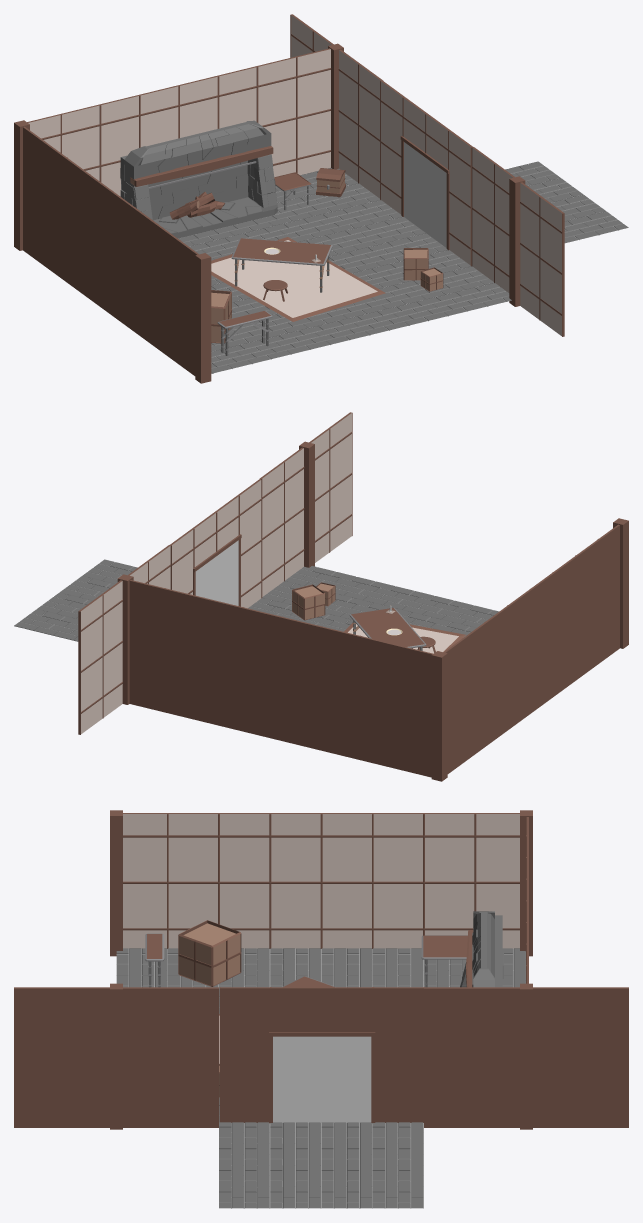
Rendered from RoomPieces.fbx.
3 renders of one model, top to bottom at view 1: azimuth 30°, elevation 25°; view 2: azimuth 150°, elevation 25°; view 3: azimuth 270°, elevation 25°, orthographic. The views are drawn at different scales.
Visible parts, largest first — view 1: Cube.055, Cube.009, Cube.006, Cube.007, Cube.016, Cube.001, Cube.073, Cube.008, Cube.014, Cube.061, Cube.017, Cube.003 (+13 smaller); view 2: Cube.009, Cube.008, Cube.007, Cube.006, Cube.016, Cube.017, Cube.014, Cube.001, Cube.019, Cube.005, Cube.015, Cube.026 (+6 smaller); view 3: Cube.016, Cube.017, Cube.007, Cube.006, Cube.014, Cube.019, Cube.015, Cube.002, Cube.003, Cube.059, Cube.055, Cube.010 (+5 smaller).
Part boxes in pixels (<box>): Cube.055: <box>120,120,277,238</box>; Cube.009: <box>178,48,330,177</box>; Cube.006: <box>23,126,112,314</box>; Cube.007: <box>110,191,198,375</box>; Cube.016: <box>471,147,564,336</box>; Cube.001: <box>326,233,511,337</box>; Cube.073: <box>213,168,425,256</box>; Cube.008: <box>27,85,179,196</box>; Cube.014: <box>380,80,472,265</box>; Cube.061: <box>211,237,385,321</box>; Cube.017: <box>290,14,383,198</box>; Cube.003: <box>211,282,359,373</box>; Cube.009: <box>129,580,282,740</box>; Cube.008: <box>281,617,433,777</box>; Cube.007: <box>530,524,619,712</box>; Cube.006: <box>444,589,532,773</box>; Cube.016: <box>259,412,352,596</box>; Cube.017: <box>78,545,170,734</box>; Cube.014: <box>170,479,262,608</box>; Cube.001: <box>248,566,463,631</box>; Cube.019: <box>14,559,137,641</box>; Cube.005: <box>431,651,447,781</box>; Cube.015: <box>195,540,238,605</box>; Cube.026: <box>349,607,426,650</box>; Cube.016: <box>14,987,218,1127</box>; Cube.017: <box>424,987,628,1127</box>; Cube.007: <box>123,813,321,948</box>; Cube.006: <box>321,813,519,948</box>; Cube.014: <box>219,987,424,1123</box>; Cube.019: <box>219,1121,423,1208</box>; Cube.015: <box>273,1036,371,1122</box>; Cube.002: <box>321,948,525,987</box>; Cube.003: <box>116,948,321,1013</box>; Cube.059: <box>178,920,241,986</box>; Cube.055: <box>460,911,503,987</box>; Cube.010: <box>520,983,532,1129</box>.
Size of the model in its own units: 2426 by 604 by 2400.
